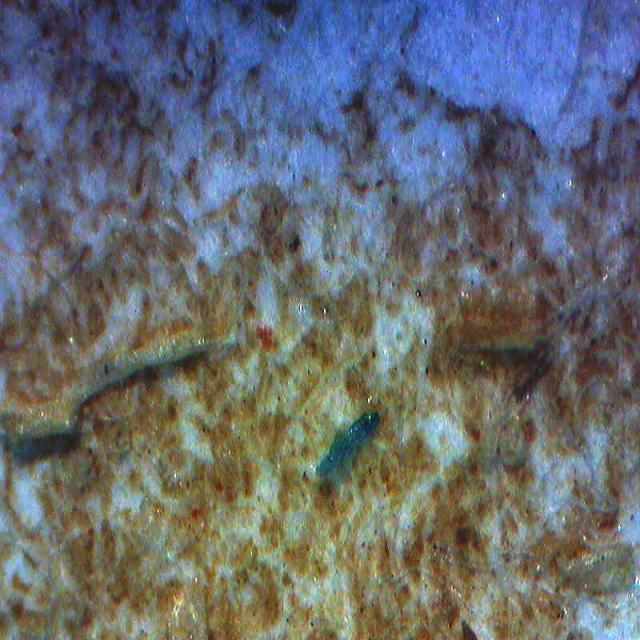microplastic: (307, 405, 385, 481)
